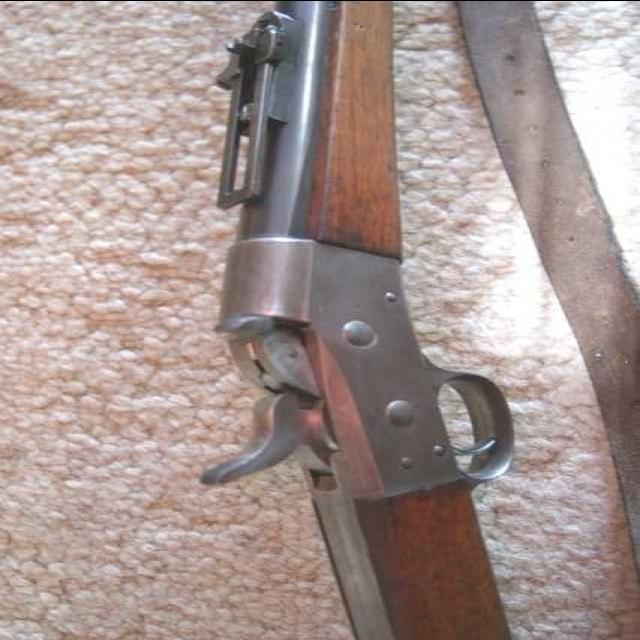heavyweapon: (138, 7, 565, 625)
